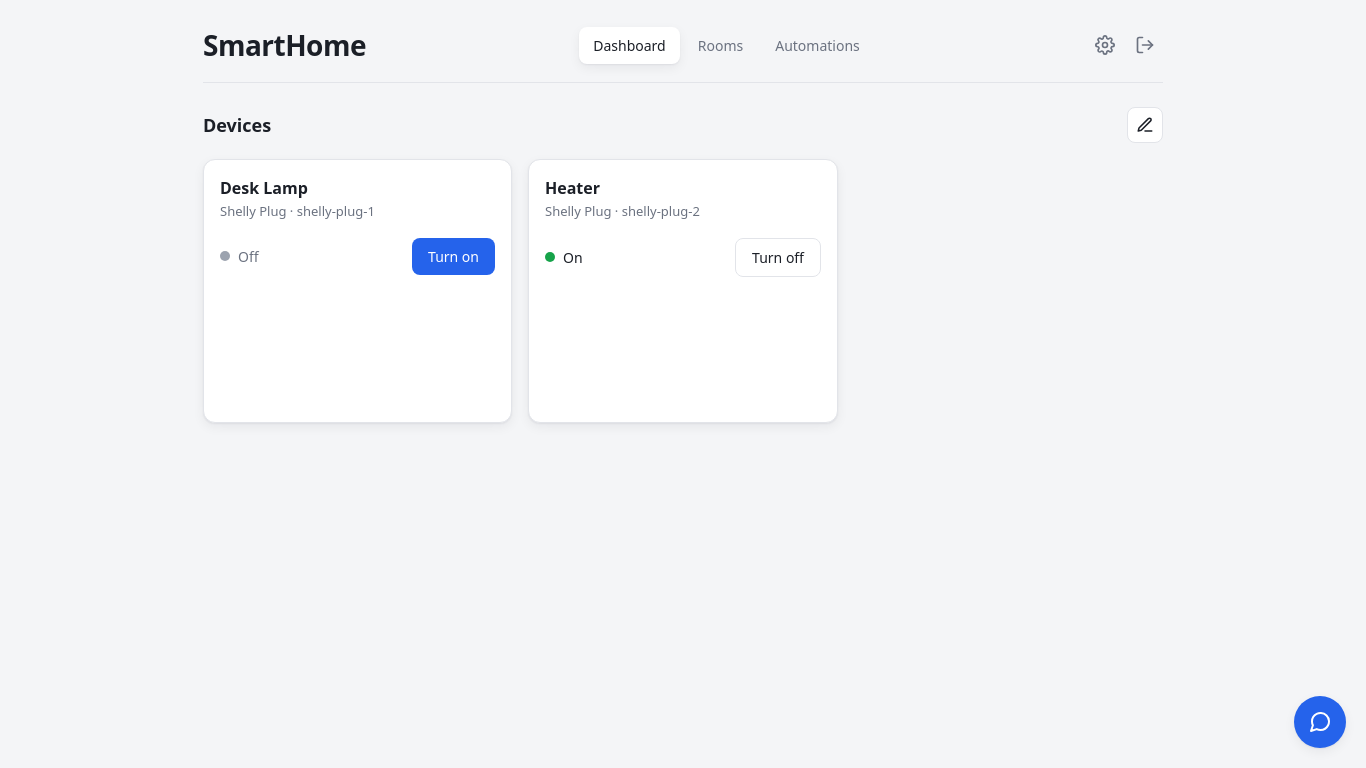
App › updates only the toggled device in a multi-device list
Click the button with aria-label "Turn Desk Lamp on" at (454,256), box 412,238 -> 495,274
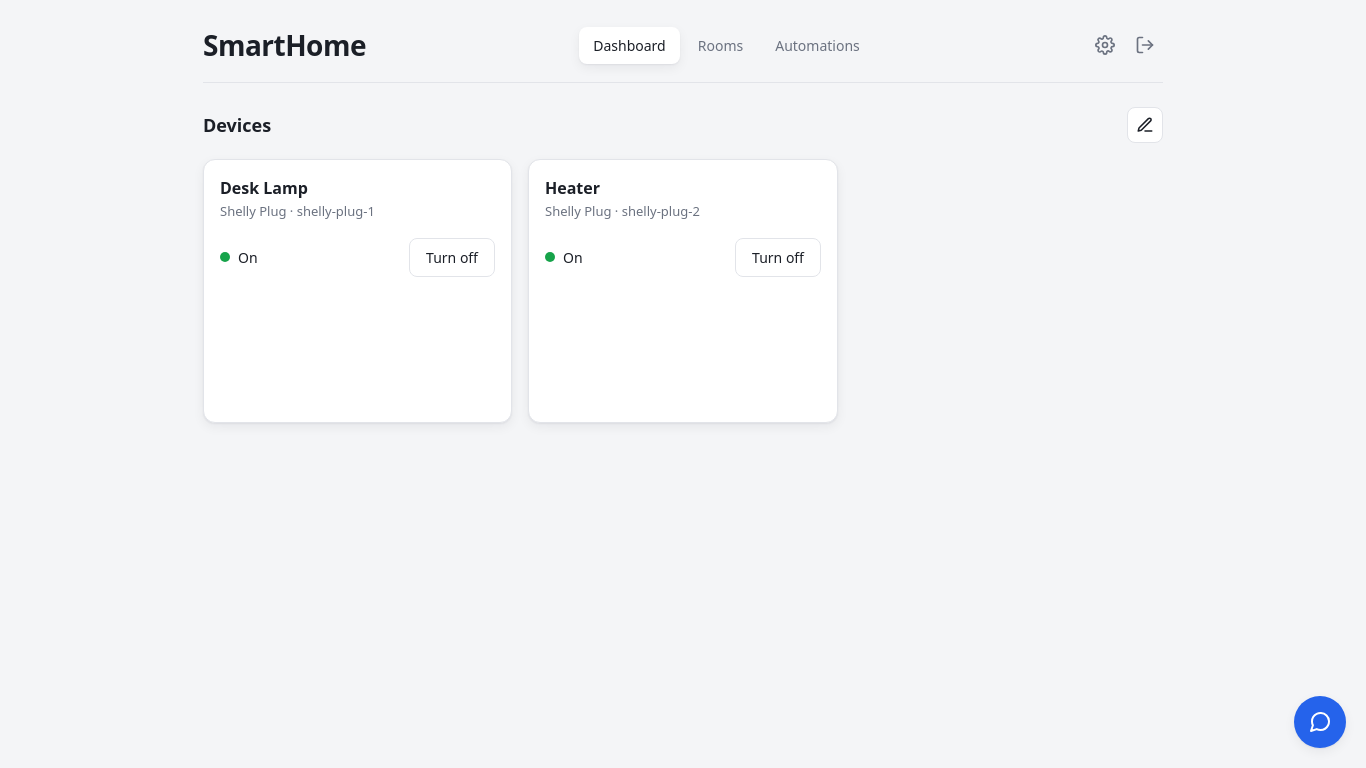
Expected: the button with aria-label "Turn Heater off" is shown, 735,238 -> 821,276
Expected: the button with aria-label "Turn Desk Lamp off" is shown, 409,238 -> 495,276
